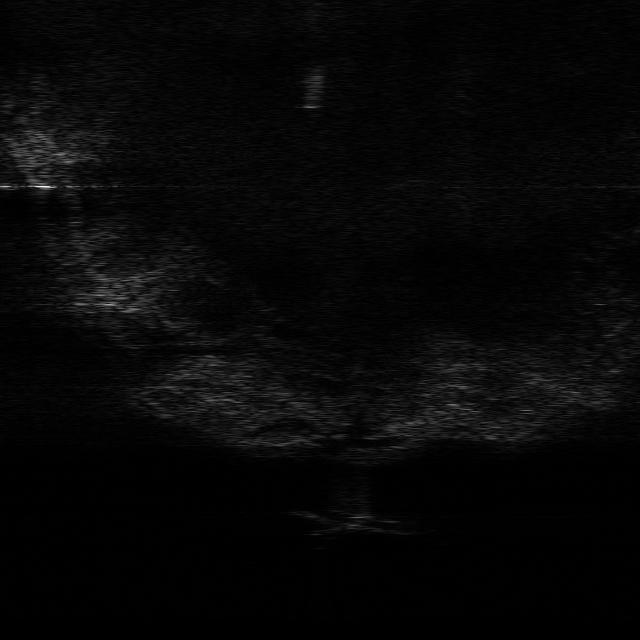plane: (292, 506, 412, 536)
